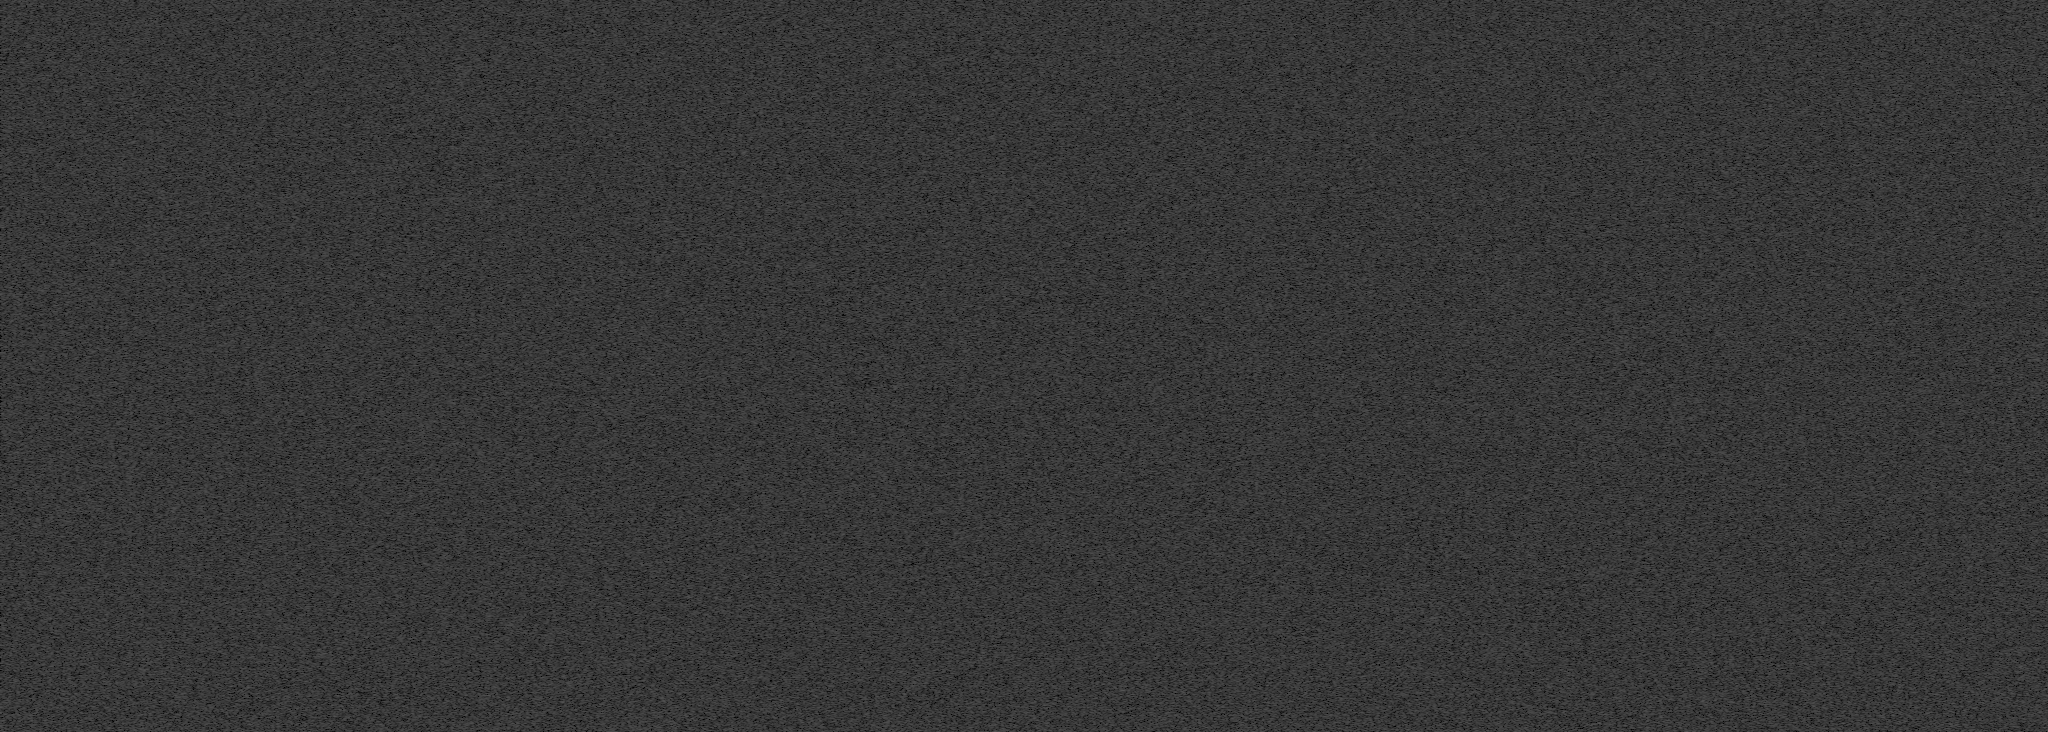wv_am: (1938, 0, 1944, 397), (1938, 420, 1944, 732), (1938, 400, 1944, 416)
wv_cw: (410, 0, 415, 732), (1936, 0, 1941, 732)
wv_dvbt_8kfft: (350, 0, 1166, 732)
wv_lsb: (1485, 631, 1490, 652), (1486, 82, 1490, 106), (1486, 192, 1490, 205), (1486, 112, 1490, 125), (1486, 688, 1490, 699), (1486, 654, 1490, 665), (1486, 174, 1490, 186), (1486, 620, 1490, 630), (1485, 261, 1490, 269), (1486, 207, 1490, 216), (1486, 233, 1490, 241), (1486, 152, 1490, 159), (1486, 719, 1489, 729), (1485, 678, 1490, 682), (1486, 217, 1490, 222), (1486, 163, 1489, 171), (1486, 131, 1490, 136), (1486, 107, 1490, 112), (1486, 73, 1489, 81), (1486, 67, 1490, 72), (1486, 280, 1489, 286), (1486, 706, 1490, 710), (1486, 616, 1490, 620), (1486, 441, 1490, 444), (1486, 139, 1490, 142), (1486, 252, 1489, 258), (1486, 701, 1489, 705), (1486, 684, 1489, 688), (1486, 668, 1489, 672), (1486, 454, 1489, 457), (1486, 311, 1489, 315), (1486, 244, 1489, 248), (1486, 146, 1489, 150), (1486, 127, 1490, 129), (1486, 711, 1489, 715), (1486, 674, 1489, 677), (1486, 435, 1489, 438), (1486, 187, 1489, 190)
wv_wbfm: (1580, 0, 1604, 732), (1422, 0, 1445, 732)
